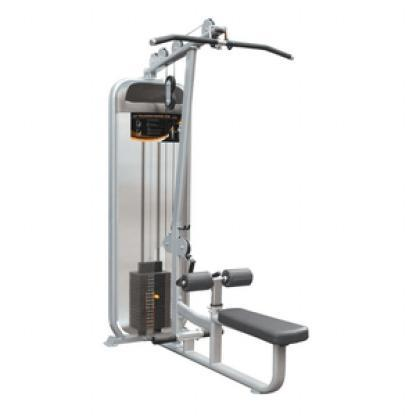Lat Pull Down: (94, 11, 340, 404)
